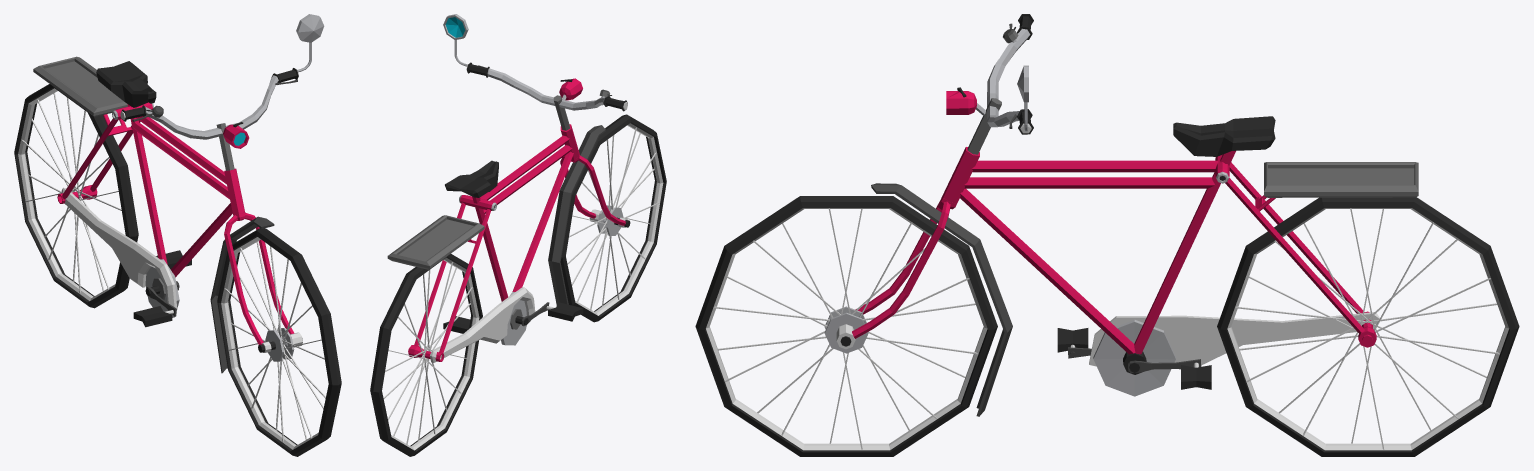
File: Bicycle.fbx
The picture shows the model from 3 angles, left to right: view 1: azimuth 30°, elevation 25°; view 2: azimuth 150°, elevation 25°; view 3: azimuth 270°, elevation 25°; orthographic projection. The views are drawn at different scales.
Visible parts, largest first — view 1: Bicycle_Body, Bicycle_FrontWhel, Bicycle_BackWhel, Bicycle_Handlebars; view 2: Bicycle_Body, Bicycle_BackWhel, Bicycle_Handlebars, Bicycle_FrontWhel; view 3: Bicycle_Body, Bicycle_BackWhel, Bicycle_FrontWhel, Bicycle_Handlebars.
Part boxes in pixels (x1,y1,x2,y2): Bicycle_Body: (33, 56, 244, 327); Bicycle_FrontWhel: (217, 228, 341, 456); Bicycle_BackWhel: (14, 84, 138, 308); Bicycle_Handlebars: (120, 14, 324, 373); Bicycle_Body: (387, 124, 583, 362); Bicycle_BackWhel: (370, 254, 482, 456); Bicycle_Handlebars: (443, 14, 630, 305); Bicycle_FrontWhel: (560, 114, 666, 322); Bicycle_Body: (943, 116, 1418, 396); Bicycle_BackWhel: (1217, 197, 1519, 456); Bicycle_FrontWhel: (695, 196, 997, 456); Bicycle_Handlebars: (824, 14, 1033, 416).
Size of the model in its own units: 0.6938 by 1.16 by 1.92.
